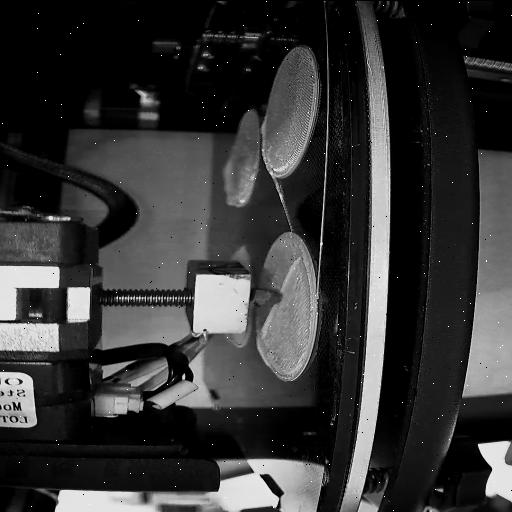over_extrusion: (220, 155, 250, 209), (278, 256, 302, 292), (258, 306, 272, 338), (224, 337, 252, 349), (258, 116, 270, 138)
